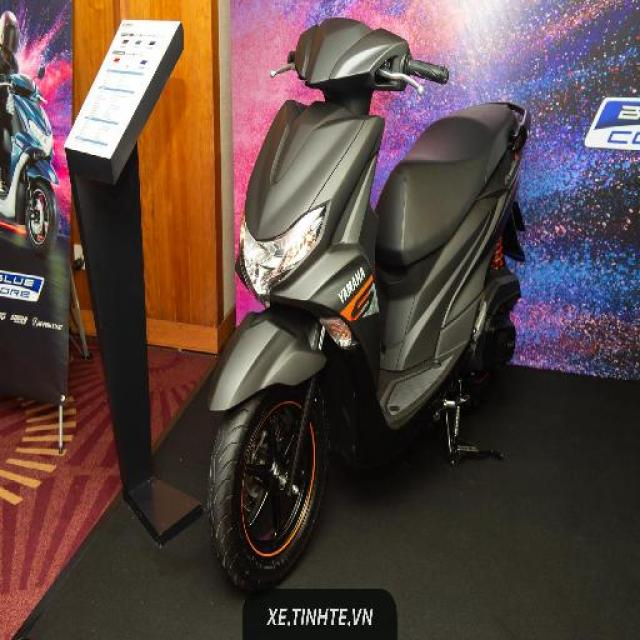All: (201, 19, 539, 586)
Head: (272, 21, 449, 96)
Tail: (471, 93, 535, 165)
